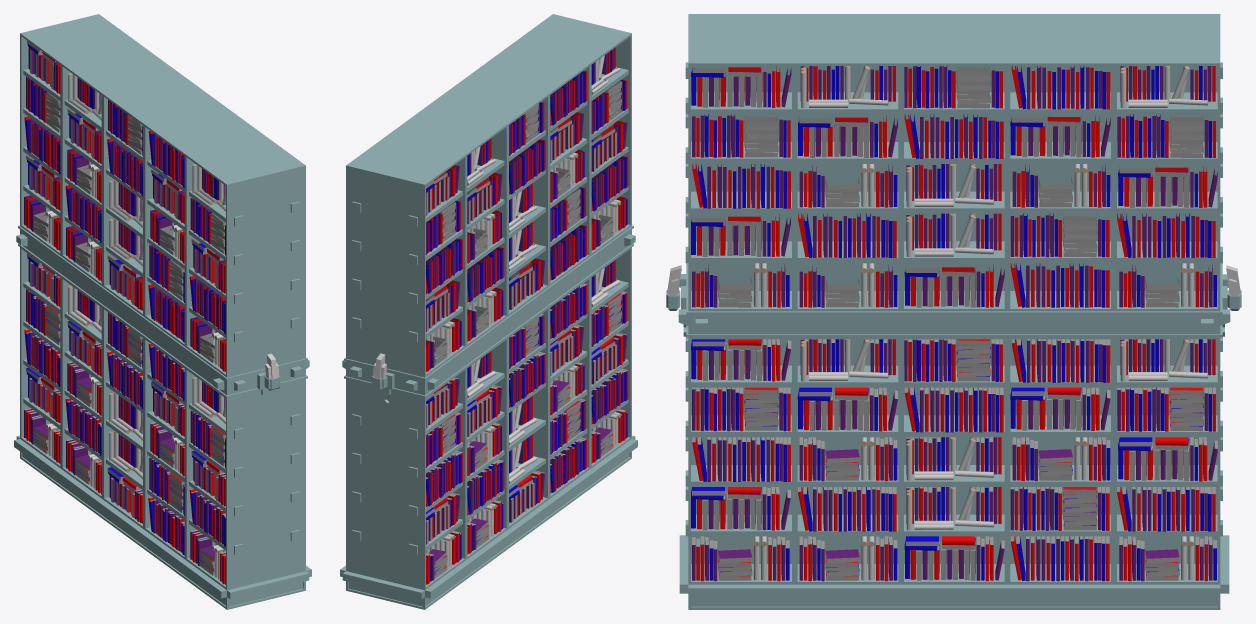
The model's file is BookCase_Single.FBX.
The picture shows the model from 3 angles, left to right: view 1: azimuth 30°, elevation 25°; view 2: azimuth 150°, elevation 25°; view 3: azimuth 270°, elevation 25°; orthographic projection. The views are drawn at different scales.
Visible parts, largest first — view 1: BookCase_LOD0; view 2: BookCase_LOD0; view 3: BookCase_LOD0.
Boxes of the visible parts, box(x1,y1,x2,y2) form: BookCase_LOD0: box(14, 14, 311, 609); BookCase_LOD0: box(340, 14, 637, 609); BookCase_LOD0: box(666, 14, 1241, 609).
Size of what is drawn, in the model's own units: 88.41 by 390 by 373.
